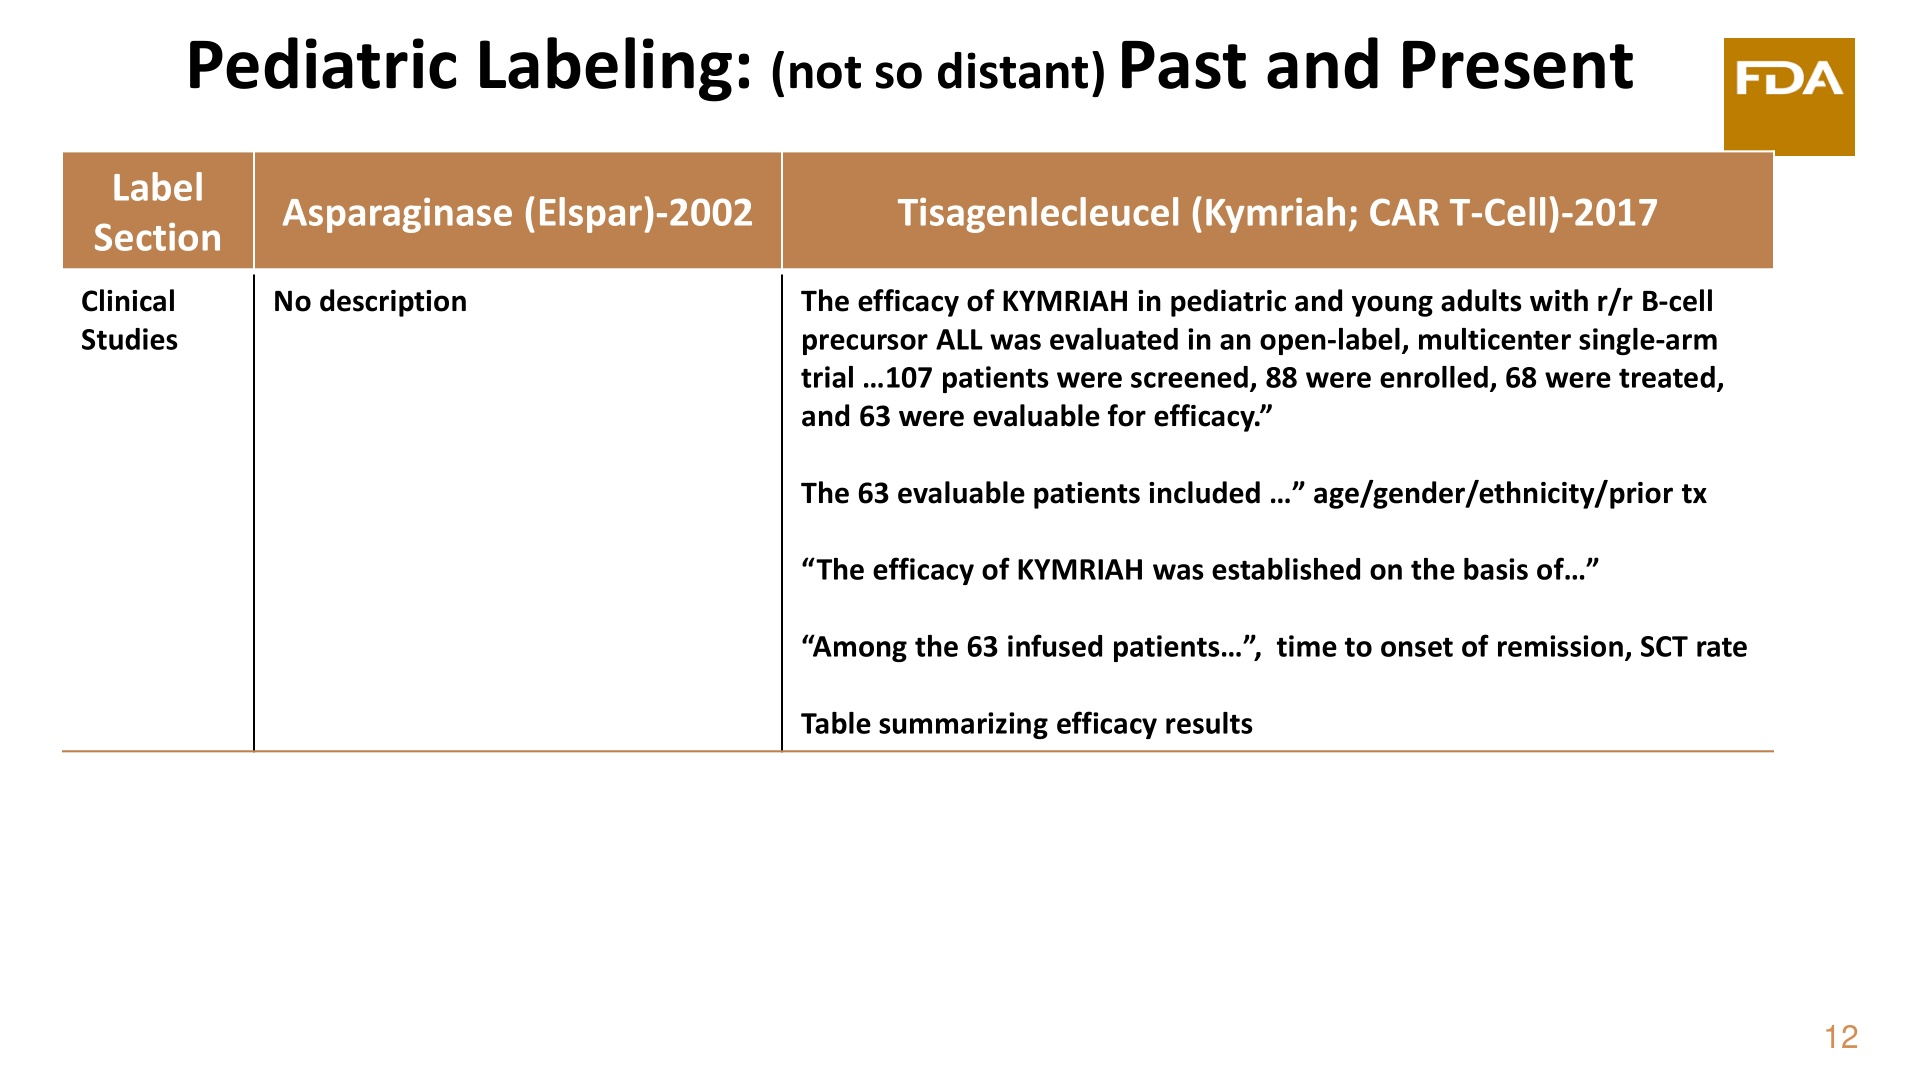full_lined: (61, 152, 1774, 753)
